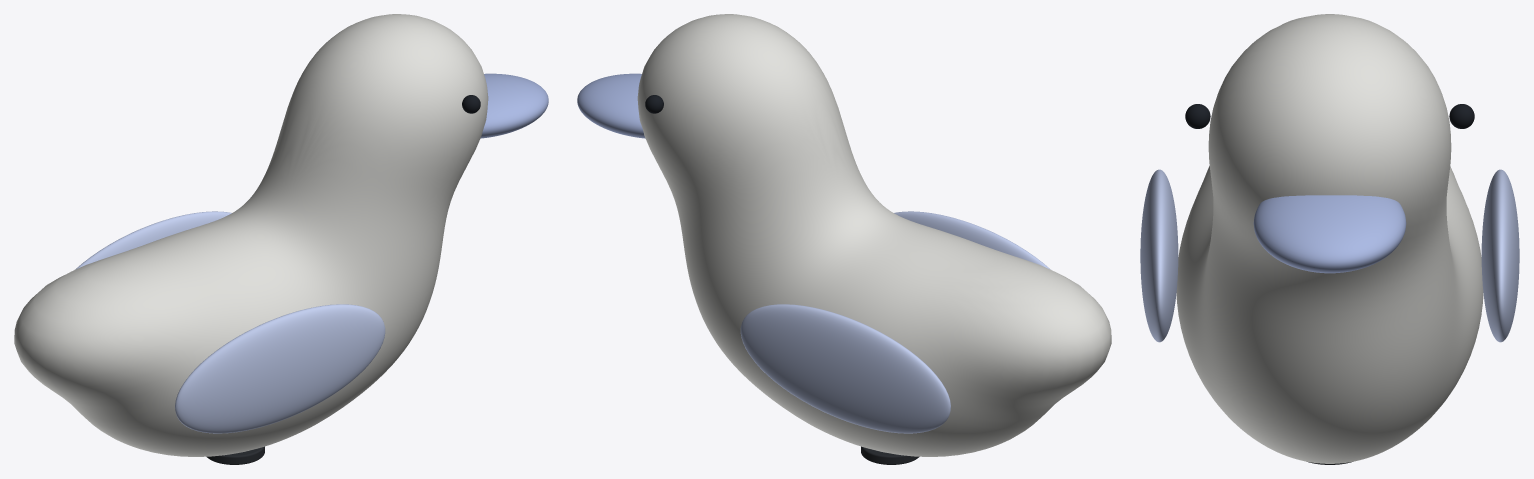
File: rubber-duck.glb
The picture shows the model from 3 angles, left to right: view 1: azimuth 30°, elevation 25°; view 2: azimuth 150°, elevation 25°; view 3: azimuth 270°, elevation 25°; orthographic projection. The views are drawn at different scales.
Parts seen in each view (by area): view 1: seamless-body-neck-and-head, complete-rubber-duck-006, complete-rubber-duck-002, complete-rubber-duck-005, complete-rubber-duck-007; view 2: seamless-body-neck-and-head, complete-rubber-duck-005, complete-rubber-duck-002, complete-rubber-duck-006, complete-rubber-duck-007; view 3: seamless-body-neck-and-head, complete-rubber-duck-002, complete-rubber-duck-005, complete-rubber-duck-006, complete-rubber-duck-003, complete-rubber-duck-004.
Part boxes in pixels (x1,y1,x2,y2): seamless-body-neck-and-head: [14, 14, 488, 456]; complete-rubber-duck-006: [175, 304, 385, 433]; complete-rubber-duck-002: [480, 73, 548, 138]; complete-rubber-duck-005: [75, 211, 231, 269]; complete-rubber-duck-007: [206, 446, 264, 464]; seamless-body-neck-and-head: [637, 14, 1111, 456]; complete-rubber-duck-005: [740, 304, 950, 433]; complete-rubber-duck-002: [577, 73, 645, 138]; complete-rubber-duck-006: [894, 211, 1050, 269]; complete-rubber-duck-007: [861, 446, 919, 464]; seamless-body-neck-and-head: [1176, 14, 1483, 463]; complete-rubber-duck-002: [1253, 195, 1406, 273]; complete-rubber-duck-005: [1481, 169, 1519, 342]; complete-rubber-duck-006: [1140, 169, 1178, 342]; complete-rubber-duck-003: [1449, 104, 1474, 128]; complete-rubber-duck-004: [1185, 104, 1210, 128].
Size of the model in its own units: 2 by 1.44 by 0.9392.
